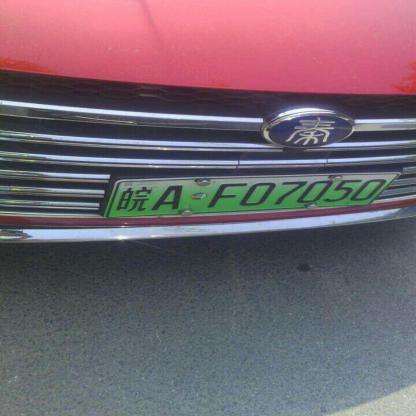lp: (106, 172, 400, 216)
